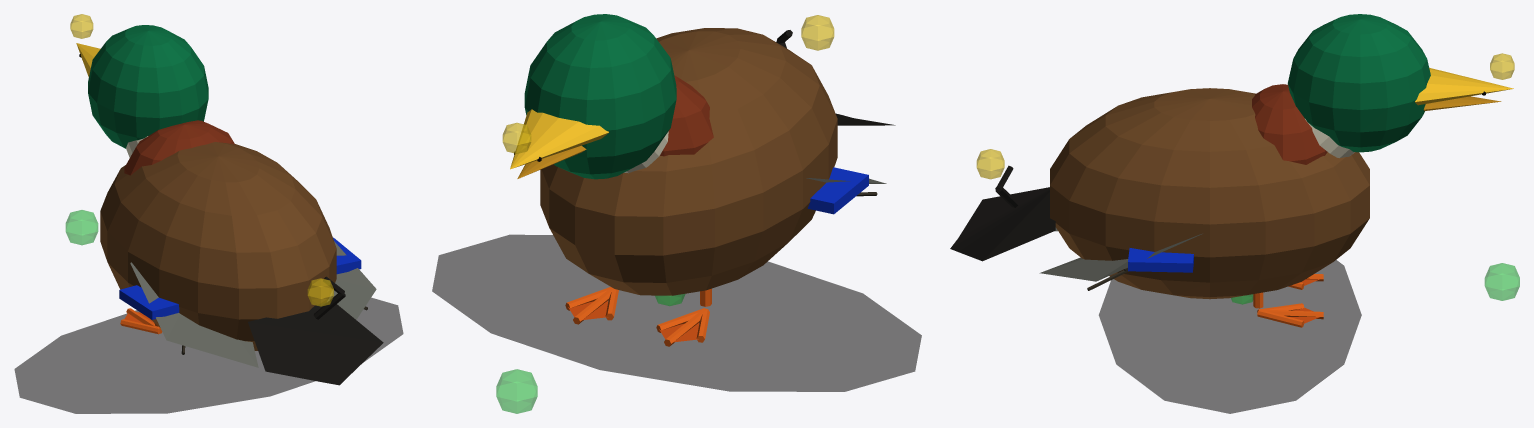
Rendered from adult_duck.obj.
3 views of the same model, side by side, from view 1: azimuth 30°, elevation 25°; view 2: azimuth 150°, elevation 25°; view 3: azimuth 270°, elevation 25° (orthographic). The views are drawn at different scales.
Parts seen in each view (by area): view 1: Adult_duck_rounded_body_brown, Soft_shadow_under_adult_duck, Adult_duck_green_head, Adult_short_tail_feathers, Left_adult_folded_wing, Adult_duck_brown_chest, Right_adult_folded_wing, Adult_left_blue_wing_speculum, Guide_Dog_Sniff_Adult_Point, Guide_Adult_Follow_Target, Adult_right_blue_wing_speculum, Guide_Adult_Look_Target (+1 smaller); view 2: Adult_duck_rounded_body_brown, Soft_shadow_under_adult_duck, Adult_duck_green_head, Adult_duck_wide_yellow_bill_upper, Adult_duck_brown_chest, Adult_left_blue_wing_speculum, Guide_Dog_Sniff_Adult_Point, Guide_Adult_Follow_Target, Guide_Adult_Look_Target, Adult_duck_lower_bill; view 3: Adult_duck_rounded_body_brown, Soft_shadow_under_adult_duck, Adult_duck_green_head, Adult_short_tail_feathers, Adult_duck_brown_chest, Adult_duck_wide_yellow_bill_upper, Right_adult_folded_wing, Adult_right_blue_wing_speculum, Guide_Dog_Sniff_Adult_Point, Guide_Adult_Follow_Target, Adult_duck_lower_bill, Guide_Adult_Look_Target (+1 smaller).
Boxes of the visible parts, box(x1,y1,x2,y2) form: Adult_duck_rounded_body_brown: box(100, 142, 336, 350); Soft_shadow_under_adult_duck: box(14, 297, 403, 413); Adult_duck_green_head: box(88, 25, 208, 148); Adult_short_tail_feathers: box(248, 303, 383, 385); Left_adult_folded_wing: box(130, 262, 258, 367); Adult_duck_brown_chest: box(124, 120, 234, 175); Right_adult_folded_wing: box(327, 241, 376, 319); Adult_left_blue_wing_speculum: box(119, 285, 179, 319); Guide_Dog_Sniff_Adult_Point: box(65, 210, 98, 245); Guide_Adult_Follow_Target: box(307, 278, 333, 306); Adult_right_blue_wing_speculum: box(333, 237, 361, 274); Guide_Adult_Look_Target: box(70, 14, 93, 38); Adult_duck_rounded_body_brown: box(540, 28, 837, 295); Soft_shadow_under_adult_duck: box(432, 234, 921, 391); Adult_duck_green_head: box(524, 14, 676, 179); Adult_duck_wide_yellow_bill_upper: box(510, 109, 608, 169); Adult_duck_brown_chest: box(660, 75, 713, 156); Adult_left_blue_wing_speculum: box(807, 167, 868, 214); Guide_Dog_Sniff_Adult_Point: box(496, 369, 537, 413); Guide_Adult_Follow_Target: box(801, 15, 834, 50); Guide_Adult_Look_Target: box(502, 122, 531, 153); Adult_duck_lower_bill: box(517, 145, 586, 178); Adult_duck_rounded_body_brown: box(1050, 88, 1369, 299); Soft_shadow_under_adult_duck: box(1099, 260, 1361, 413); Adult_duck_green_head: box(1287, 14, 1430, 152); Adult_short_tail_feathers: box(950, 187, 1055, 261); Adult_duck_brown_chest: box(1252, 84, 1327, 164); Adult_duck_wide_yellow_bill_upper: box(1415, 68, 1513, 105); Right_adult_folded_wing: box(1039, 233, 1202, 281); Adult_right_blue_wing_speculum: box(1128, 248, 1193, 272); Guide_Dog_Sniff_Adult_Point: box(1484, 263, 1519, 300); Guide_Adult_Follow_Target: box(976, 149, 1004, 179); Adult_duck_lower_bill: box(1423, 96, 1501, 111); Guide_Adult_Look_Target: box(1490, 53, 1514, 79).
Size of what is drawn, in the model's own units: 1.15 by 0.8142 by 1.4.
